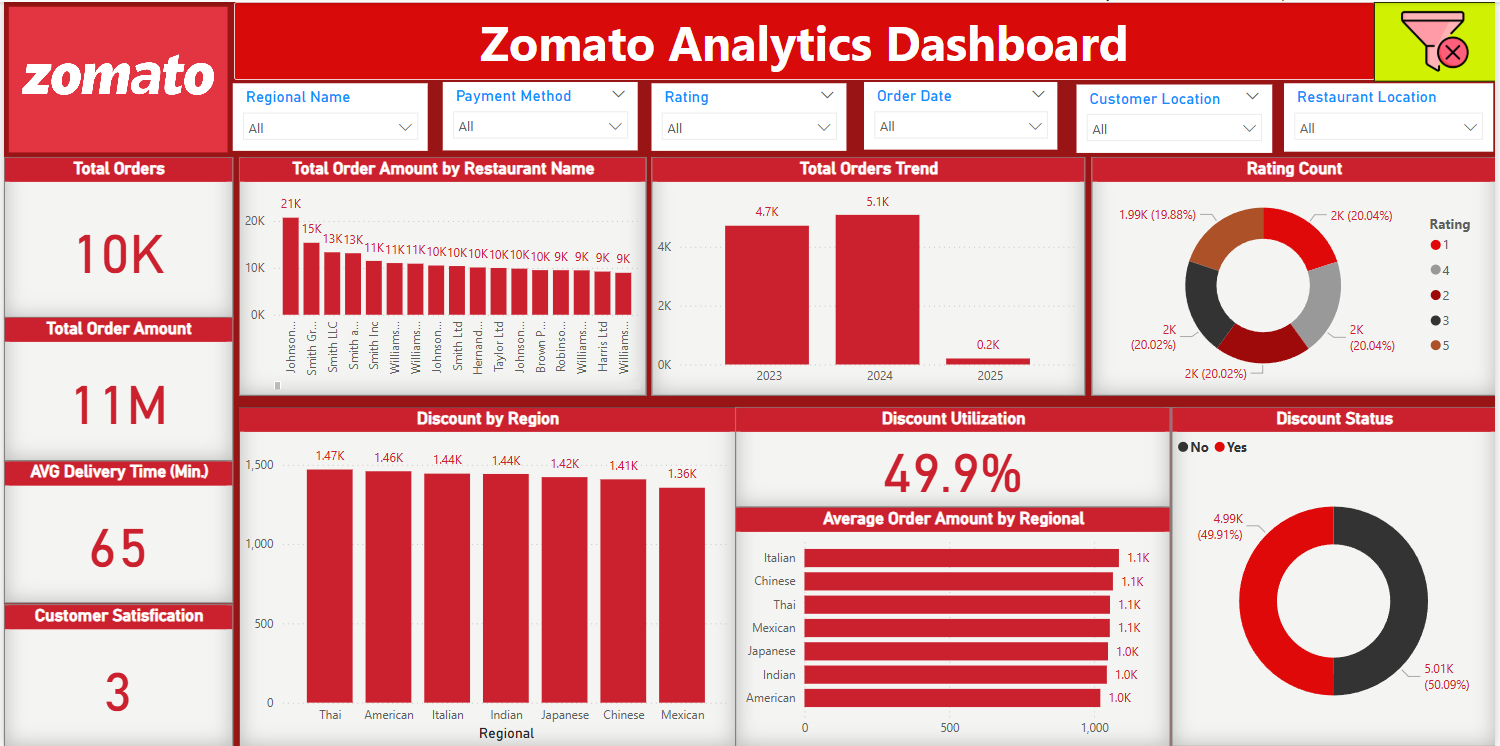

What the dashboard file says about the page in this screenshot:
{"tool":"powerbi","page":{"name":"Zomato","canvas":[1500,750],"ordinal":0},"visuals":[{"type":"textbox","box":[230.8,0,1146.8,78.8],"z":0},{"type":"image","box":[0,0,230.2,156.3],"z":1000},{"type":"slicer","fields":{"Values":["Zomato.Regional"]},"box":[229.8,81.6,196,68.3],"z":2000},{"type":"slicer","fields":{"Values":["Zomato.Rating"]},"box":[651,81.7,196,67.9],"z":3000},{"type":"slicer","fields":{"Values":["Zomato.Payment_Method"]},"box":[441.1,80.4,196,69.1],"z":4000},{"type":"slicer","fields":{"Values":["Zomato.Customer_Location"]},"box":[1077.8,82.8,196.5,68.8],"z":5000},{"type":"slicer","fields":{"Values":["Zomato.Order_Date.Variation.Date Hierarchy.Year","Zomato.Order_Date.Variation.Date Hierarchy.Month"]},"box":[864.6,80.4,194.8,67.9],"z":6000},{"type":"slicer","fields":{"Values":["Zomato.Restaurant_Location"]},"box":[1287,81.4,210,68.8],"z":7000},{"type":"card","title":"Total Orders","fields":{"Values":["Zomato.Order_ID"]},"box":[0,155.8,230.2,162.8],"z":8000},{"type":"card","title":"AVG Delivery Time (Min.)","fields":{"Values":["Zomato.Delivery_Time_Minutes"]},"box":[0,461.7,230.2,143.2],"z":9000},{"type":"card","title":"Customer Satisfication","fields":{"Values":["Zomato Data.Rating"]},"box":[0,606.3,230.2,143.2],"z":10000},{"type":"card","title":"Total Order Amount","fields":{"Values":["Zomato.Order_Amount"]},"box":[0,317.2,230.2,144.6],"z":11000},{"type":"lineClusteredColumnComboChart","title":"Total Orders Trend","fields":{"Y":["Zomato.Order_ID"],"Category":["Zomato.Order_Date.Variation.Date Hierarchy.Year"]},"box":[651.2,155.8,436,240],"z":12000},{"type":"columnChart","title":"Total Order Amount by Restaurant Name","fields":{"Category":["Zomato.Restaurant_Name"],"Y":["Zomato.Order_Amount"]},"box":[235.8,155.8,409.8,240],"z":13000},{"type":"donutChart","title":"Rating Count","fields":{"Y":["Zomato.Order_ID"],"Category":["Zomato.Rating"]},"box":[1093.3,155.8,407,240],"z":14000},{"type":"lineClusteredColumnComboChart","title":"Discount by Region","fields":{"Category":["Zomato.Cuisine"],"Y":["Zomato.Discount_Status"]},"box":[235.8,407,499.6,342.4],"z":15000},{"type":"donutChart","title":"Discount Status","fields":{"Category":["Zomato.Discount_Status"],"Y":["Zomato.Order_ID"]},"box":[1173.8,407.2,326.7,341.8],"z":16000},{"type":"card","title":"Discount Utilization","fields":{"Values":["Zomato.Discount Utlization(%)"]},"box":[735.4,407,437.9,101],"z":17000},{"type":"barChart","title":"Average Order Amount by Regional","fields":{"Category":["Zomato.Regional"],"Y":["Zomato.Order_Amount"]},"box":[735.4,508,437.9,241.4],"z":18000},{"type":"image","box":[1377.6,0,122.9,80],"z":19000}]}

Visuals, with their boxes in screenshot pixels (x1, y1, x2, y2), scaled from the page's 1500x750 canvas onto the 1500x746 screenshot:
textbox: region(231, 0, 1378, 78)
image: region(0, 0, 230, 155)
slicer - Zomato.Regional: region(230, 81, 426, 149)
slicer - Zomato.Rating: region(651, 81, 847, 149)
slicer - Zomato.Payment_Method: region(441, 80, 637, 149)
slicer - Zomato.Customer_Location: region(1078, 82, 1274, 151)
slicer - Zomato.Order_Date.Variation.Date Hierarchy.Year x Zomato.Order_Date.Variation.Date Hierarchy.Month: region(865, 80, 1059, 148)
slicer - Zomato.Restaurant_Location: region(1287, 81, 1497, 149)
"Total Orders" card: region(0, 155, 230, 317)
"AVG Delivery Time (Min.)" card: region(0, 459, 230, 602)
"Customer Satisfication" card: region(0, 603, 230, 745)
"Total Order Amount" card: region(0, 316, 230, 459)
"Total Orders Trend" lineClusteredColumnComboChart: region(651, 155, 1087, 394)
"Total Order Amount by Restaurant Name" columnChart: region(236, 155, 646, 394)
"Rating Count" donutChart: region(1093, 155, 1499, 394)
"Discount by Region" lineClusteredColumnComboChart: region(236, 405, 735, 745)
"Discount Status" donutChart: region(1174, 405, 1499, 745)
"Discount Utilization" card: region(735, 405, 1173, 505)
"Average Order Amount by Regional" barChart: region(735, 505, 1173, 745)
image: region(1378, 0, 1499, 80)
